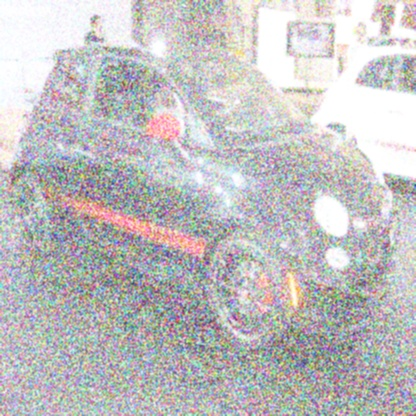Vehicle: (8, 11, 401, 353)
